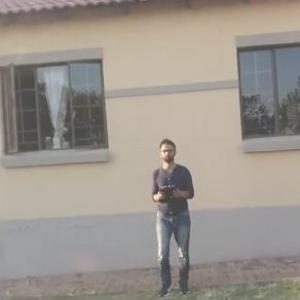follow: (147, 127, 200, 295)
